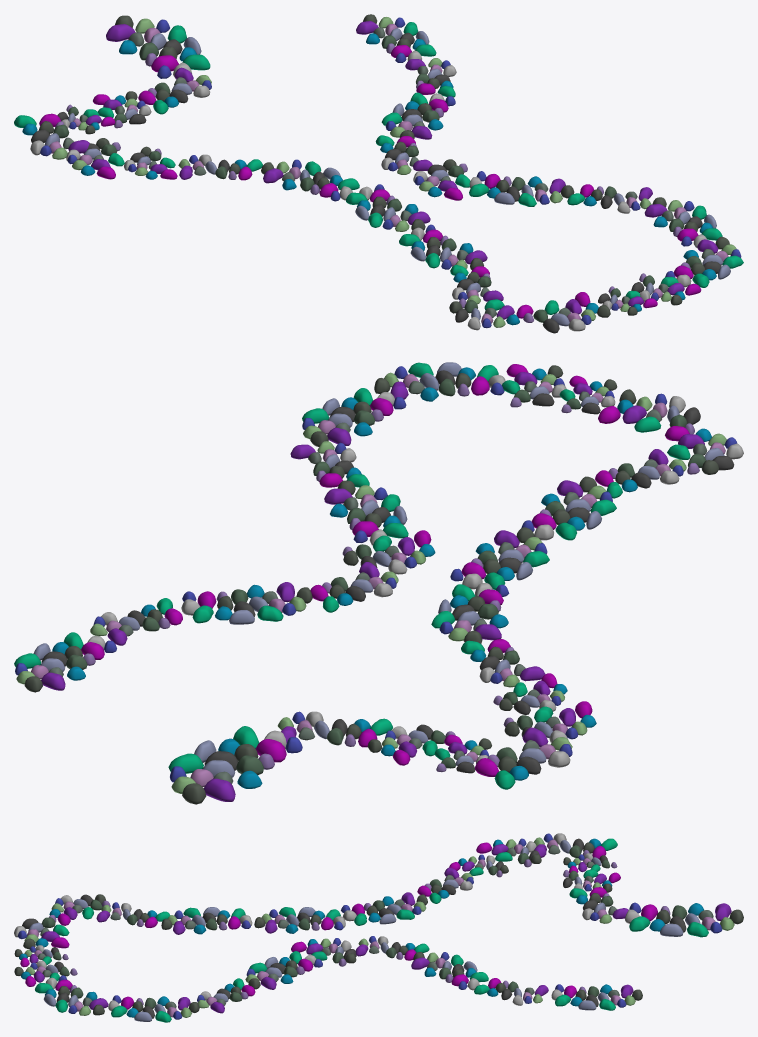
File: temp-Path.fbx
The picture shows the model from 3 angles, top to bottom: view 1: azimuth 30°, elevation 25°; view 2: azimuth 150°, elevation 25°; view 3: azimuth 270°, elevation 25°; orthographic projection. The views are drawn at different scales.
Visible parts, largest first — view 1: Temp_Path; view 2: Temp_Path; view 3: Temp_Path.
Boxes of the visible parts, x1,y1,x2,y2 form: Temp_Path: [14, 14, 743, 333]; Temp_Path: [14, 362, 743, 804]; Temp_Path: [14, 833, 743, 1022].
Bounding box in the file's own units: 172 × 5.91 × 287.
